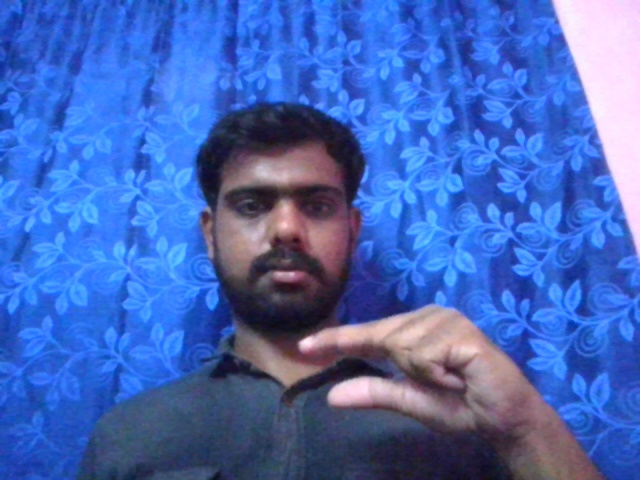No: (291, 280, 544, 449)
